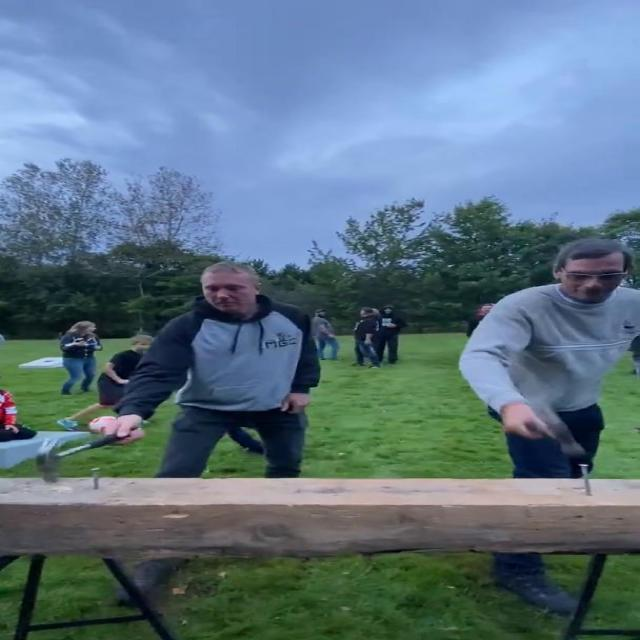hammer: (34, 427, 136, 484)
